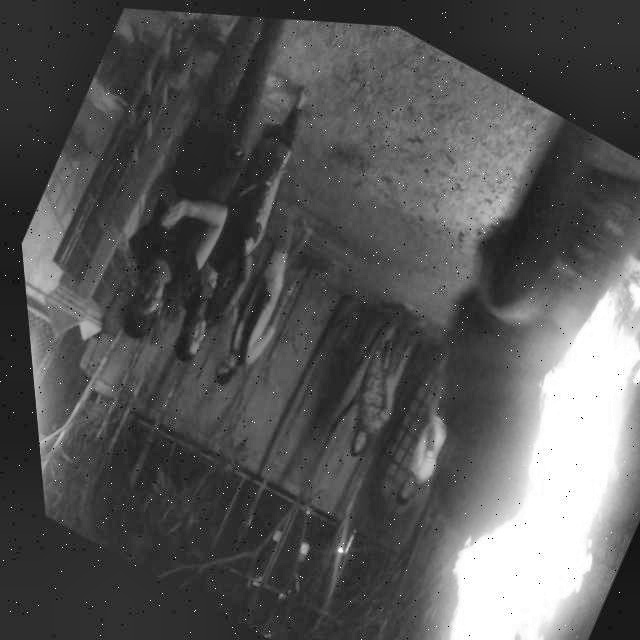Fire: (348, 247, 640, 640)
